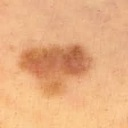Melanoma: (23, 46, 88, 83)
